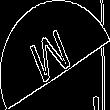M_SE: (30, 21, 80, 89)
